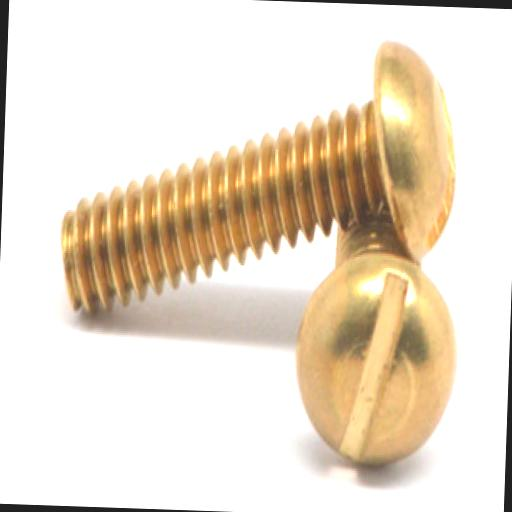Slotted: (290, 249, 460, 476)
